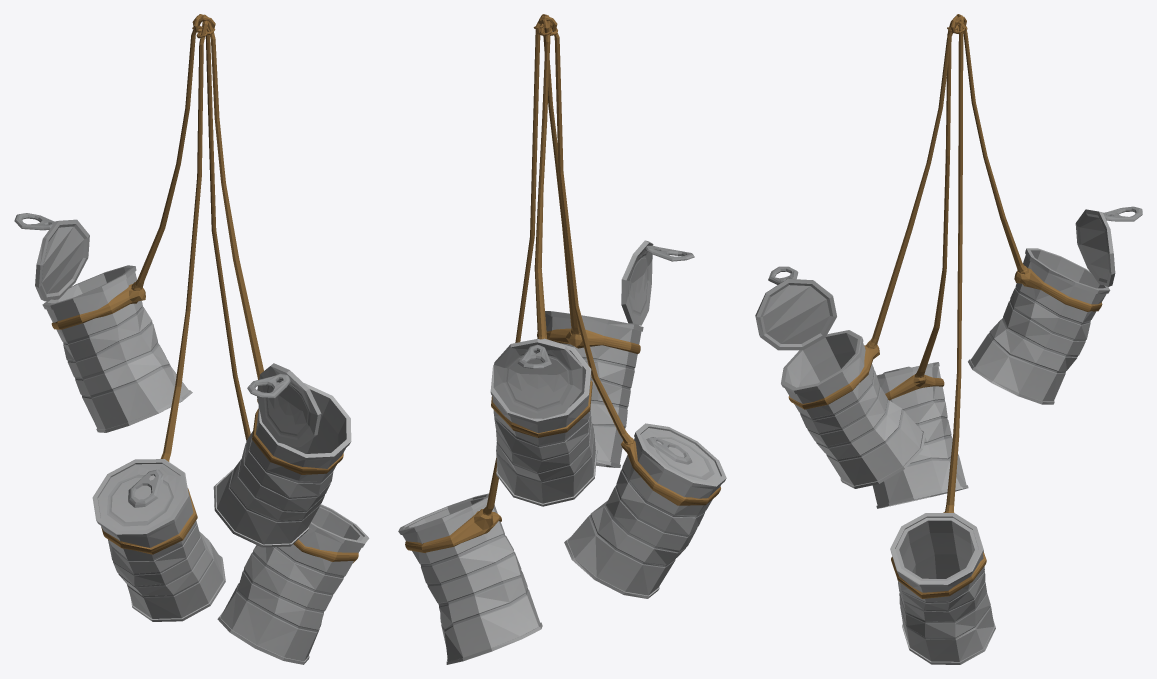
File: cans_on_twine.obj
3 views of the same model, side by side, from view 1: azimuth 30°, elevation 25°; view 2: azimuth 150°, elevation 25°; view 3: azimuth 270°, elevation 25° (orthographic). The views are drawn at different scales.
Parts seen in each view (by area): view 1: can_1_closed_Material, can_3_opened_Material, can_2_opened_Material, can_4_opened_Material, can_4_lid_Material, can_3_lid_Material, twine_3_Material, twine_1_Material, twine_4_Material, twine_2_Material, can_3_holder_Material, can_1_holder_Material (+3 smaller); view 2: can_1_closed_Material, can_2_opened_Material, can_3_opened_Material, can_4_opened_Material, can_3_lid_Material, twine_3_Material, twine_4_Material, twine_2_Material, can_4_lid_Material, can_2_holder_Material, twine_1_Material, can_1_holder_Material (+3 smaller); view 3: can_4_opened_Material, can_2_opened_Material, can_3_opened_Material, can_1_closed_Material, can_4_lid_Material, twine_4_Material, can_3_lid_Material, twine_1_Material, twine_3_Material, twine_2_Material, can_3_holder_Material, can_4_holder_Material (+2 smaller).
Boxes of the visible parts, <box> form: can_1_closed_Material: <box>92,459,225,621</box>; can_3_opened_Material: <box>42,265,192,432</box>; can_2_opened_Material: <box>217,504,369,664</box>; can_4_opened_Material: <box>213,383,351,547</box>; can_4_lid_Material: <box>257,363,321,447</box>; can_3_lid_Material: <box>35,219,89,301</box>; twine_3_Material: <box>160,20,208,461</box>; twine_1_Material: <box>192,14,263,379</box>; twine_4_Material: <box>193,14,250,440</box>; twine_2_Material: <box>131,16,215,290</box>; can_3_holder_Material: <box>51,284,145,329</box>; can_1_holder_Material: <box>101,488,197,554</box>; can_1_closed_Material: <box>564,423,726,598</box>; can_2_opened_Material: <box>398,493,542,664</box>; can_3_opened_Material: <box>490,338,597,506</box>; can_4_opened_Material: <box>545,311,643,467</box>; can_3_lid_Material: <box>493,338,582,418</box>; twine_3_Material: <box>535,22,634,444</box>; twine_4_Material: <box>483,16,557,515</box>; twine_2_Material: <box>534,14,552,339</box>; can_4_lid_Material: <box>621,240,653,325</box>; can_2_holder_Material: <box>405,509,501,552</box>; twine_1_Material: <box>541,15,580,335</box>; can_1_holder_Material: <box>621,440,720,505</box>; can_4_opened_Material: <box>781,330,925,488</box>; can_2_opened_Material: <box>890,513,995,664</box>; can_3_opened_Material: <box>968,248,1110,404</box>; can_1_closed_Material: <box>872,362,968,508</box>; can_4_lid_Material: <box>755,278,836,350</box>; twine_4_Material: <box>945,14,964,512</box>; can_3_lid_Material: <box>1075,209,1115,286</box>; twine_1_Material: <box>866,16,966,348</box>; twine_3_Material: <box>914,20,965,377</box>; twine_2_Material: <box>950,16,1028,274</box>; can_3_holder_Material: <box>1014,268,1102,311</box>; can_4_holder_Material: <box>788,345,879,409</box>.
Bounding box in the file's own units: 0.3566 × 0.7837 × 0.4526.
